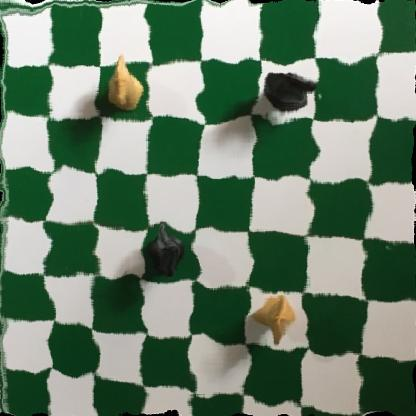black-knight: (259, 66, 318, 119), (145, 229, 190, 279)
white-knight: (106, 55, 147, 114), (250, 291, 296, 343)
